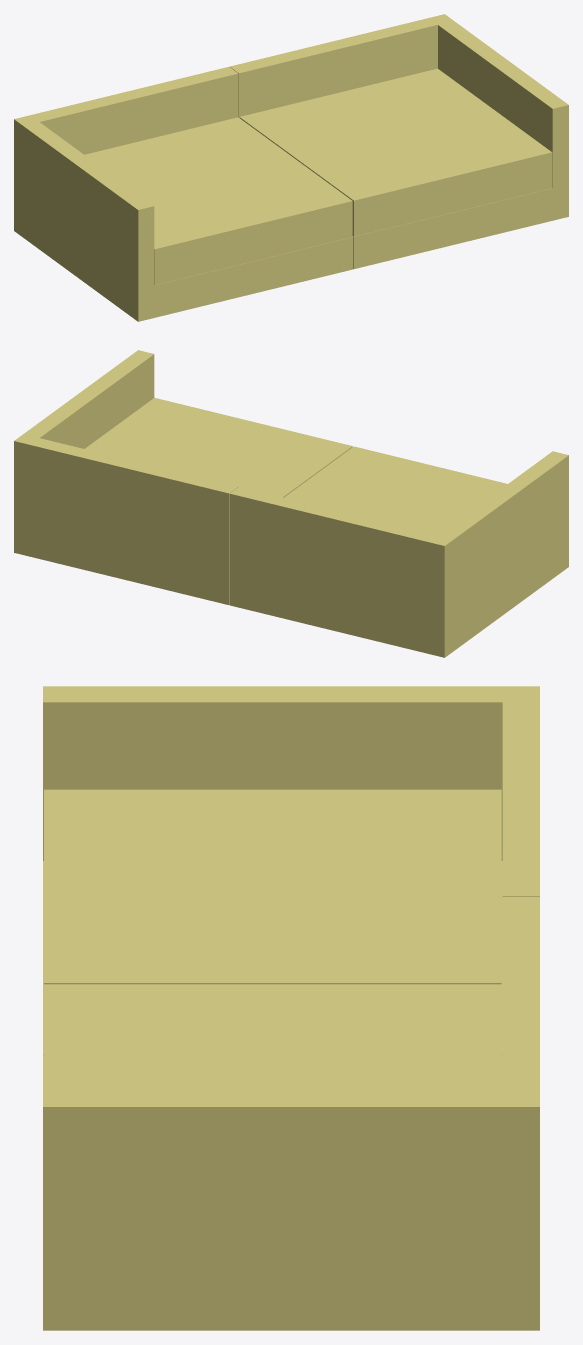
Rendered from sofa1.glb.
3 renders of one model, top to bottom at view 1: azimuth 30°, elevation 25°; view 2: azimuth 150°, elevation 25°; view 3: azimuth 270°, elevation 25°, orthographic. The views are drawn at different scales.
Parts seen in each view (by area): view 1: Support, Cushion; view 2: Support, Cushion; view 3: Support, Cushion.
Part boxes in pixels (box(x1,y1,x2,y2)): Support: box(14, 14, 568, 321); Cushion: box(84, 68, 552, 285); Support: box(14, 350, 568, 657); Cushion: box(85, 397, 507, 535); Support: box(43, 686, 539, 1330); Cushion: box(44, 789, 501, 1090).
Bounding box in the file's own units: 21.3 × 5.28 × 10.64.
